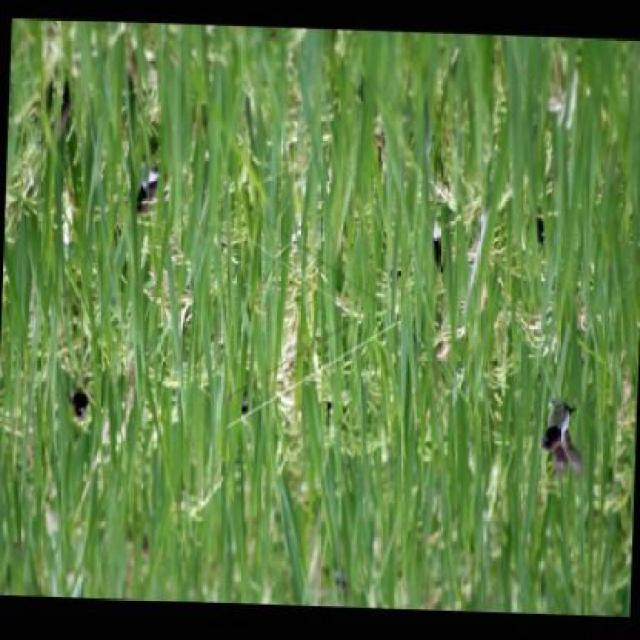Bird: (541, 397, 582, 473)
